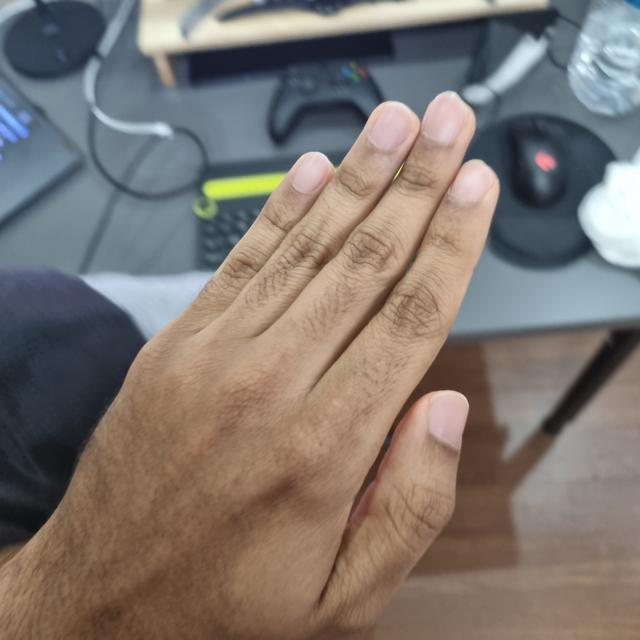Paper: (20, 96, 498, 640)
